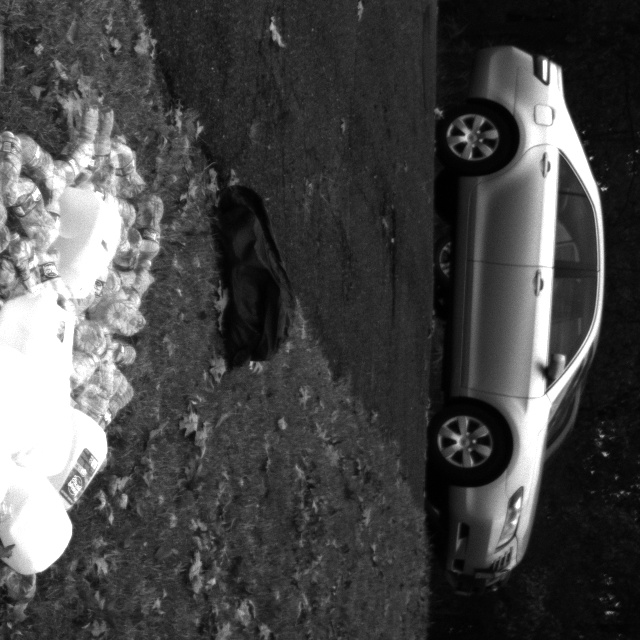bottle: (8, 177, 59, 248), (135, 193, 170, 276), (105, 134, 149, 198), (65, 101, 102, 170), (47, 141, 92, 194), (87, 106, 119, 176), (7, 131, 51, 177), (32, 247, 68, 303), (71, 321, 112, 365), (124, 260, 157, 313), (108, 338, 139, 370)
can: (0, 459, 77, 578), (53, 188, 126, 303), (5, 283, 75, 395), (11, 373, 79, 482), (45, 405, 112, 515)
